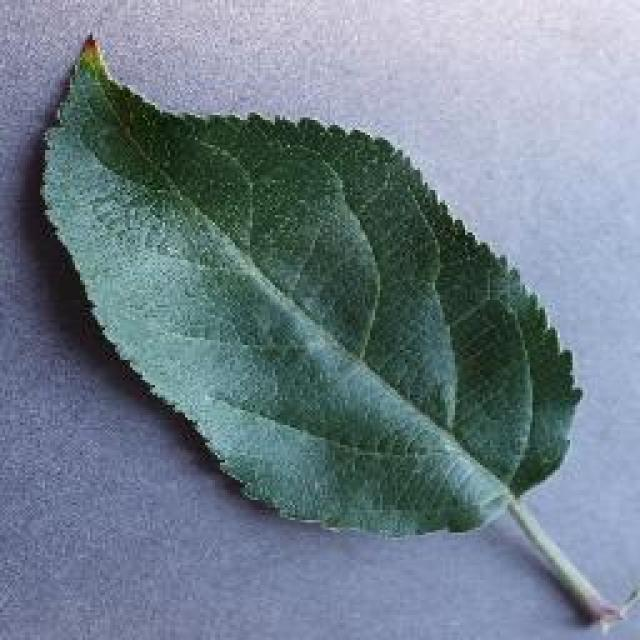apple healthy: (32, 28, 638, 632)
